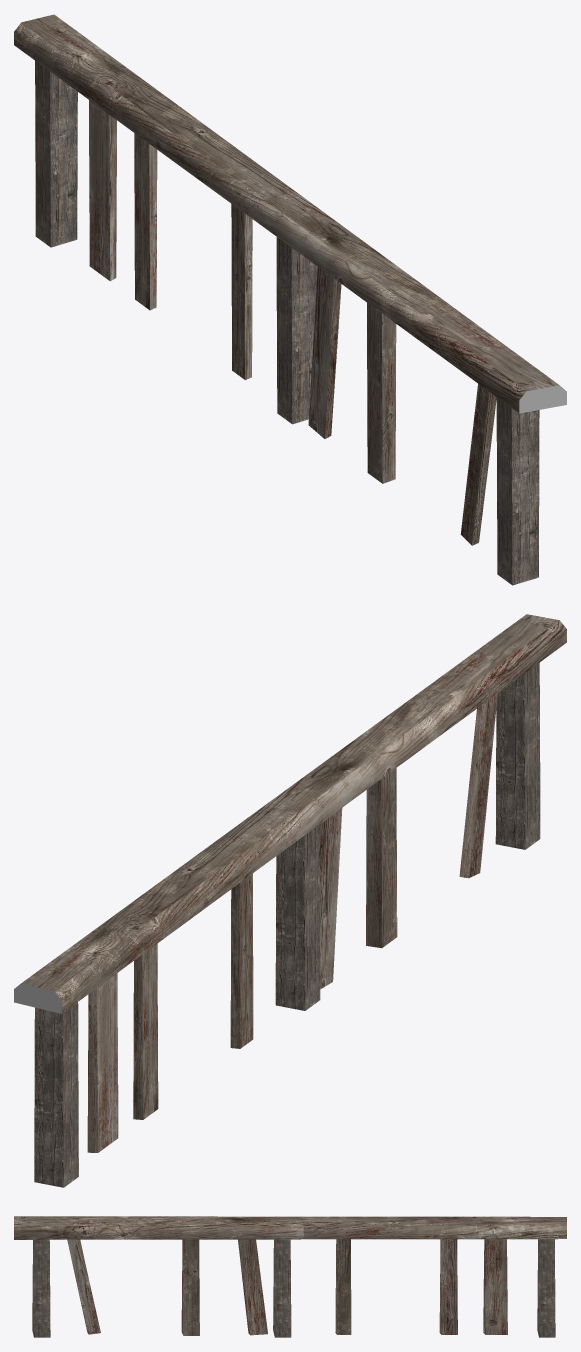
Rendered from Barrier2.fbx.
3 views of the same model, one above another, from view 1: azimuth 30°, elevation 25°; view 2: azimuth 150°, elevation 25°; view 3: azimuth 270°, elevation 25° (orthographic). The views are drawn at different scales.
Parts seen in each view (by area): view 1: polySurface397; view 2: polySurface397; view 3: polySurface397.
Boxes of the visible parts, box(x1,y1,x2,y2) form: polySurface397: box(14, 14, 566, 585); polySurface397: box(14, 614, 566, 1187); polySurface397: box(14, 1216, 566, 1337).
Size of the model in its own units: 0.2599 by 1.08 by 4.78.
